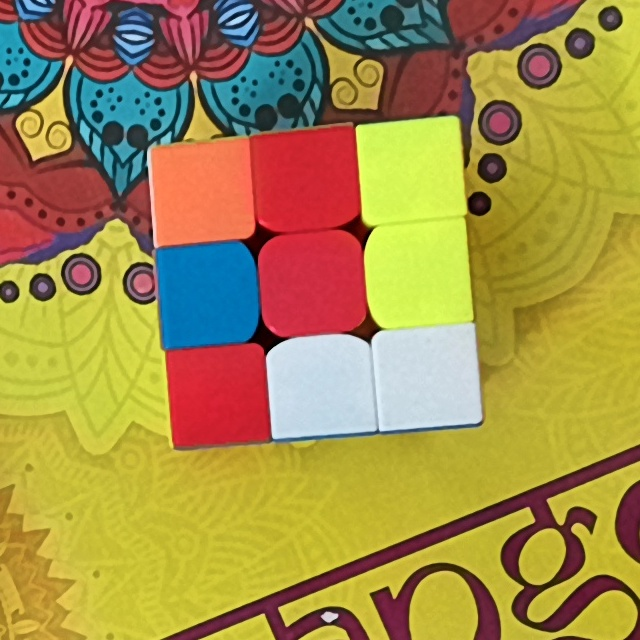tile: (367, 129, 457, 211), (386, 336, 470, 419), (263, 138, 348, 220), (280, 348, 366, 428), (376, 233, 460, 314), (167, 254, 248, 338), (176, 356, 262, 434), (273, 244, 355, 325), (158, 153, 242, 232)
